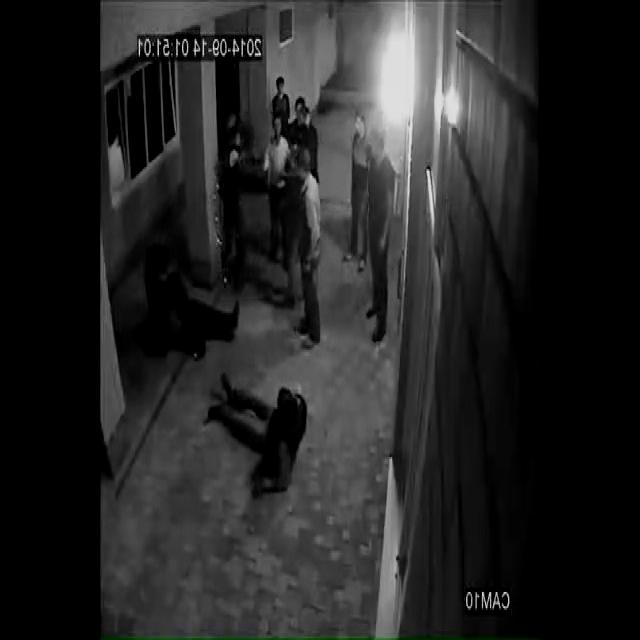fight: (219, 114, 293, 304)
